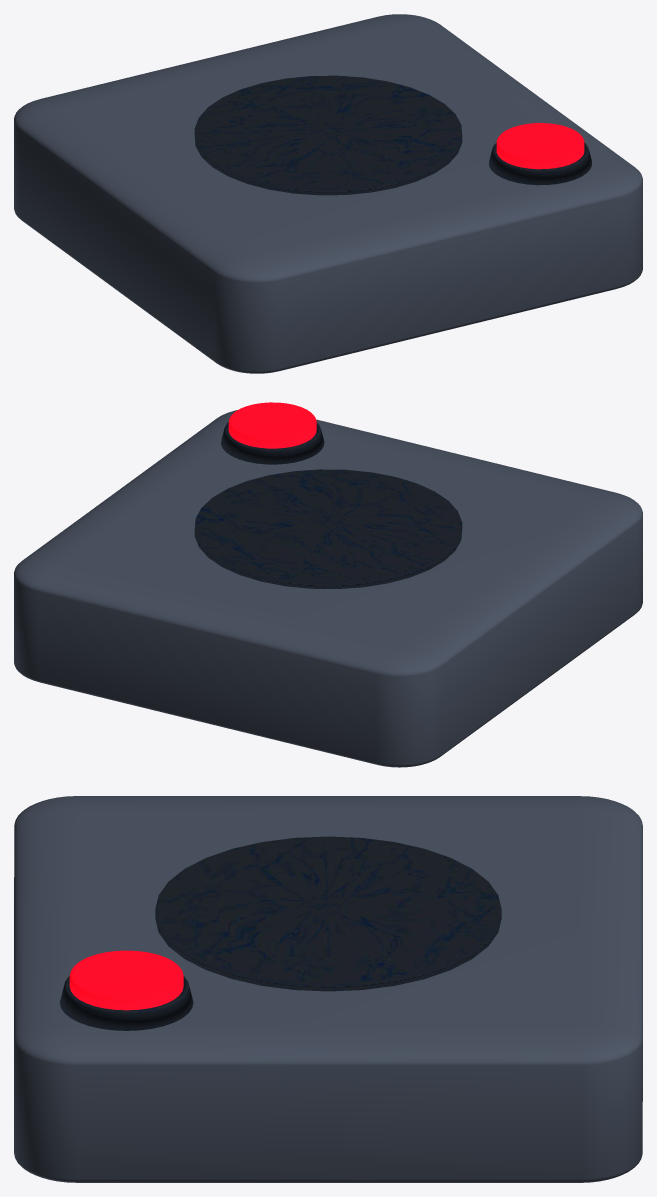
3 renders of one model, top to bottom at view 1: azimuth 30°, elevation 25°; view 2: azimuth 150°, elevation 25°; view 3: azimuth 270°, elevation 25°, orthographic. The views are drawn at different scales.
Visible parts, largest first — view 1: Base, Stick, Button; view 2: Base, Stick, Button; view 3: Base, Stick, Button.
Boxes of the visible parts, x1,y1,x2,y2 form: Base: [14, 14, 642, 373]; Stick: [194, 75, 462, 195]; Button: [489, 123, 592, 185]; Base: [14, 410, 642, 767]; Stick: [194, 469, 462, 588]; Button: [221, 402, 324, 464]; Base: [14, 796, 642, 1182]; Stick: [155, 836, 501, 991]; Button: [59, 950, 193, 1030].
Bounding box in the file's own units: 4.03 × 1.22 × 4.03.
Materials: 3 (1 with a texture image).
